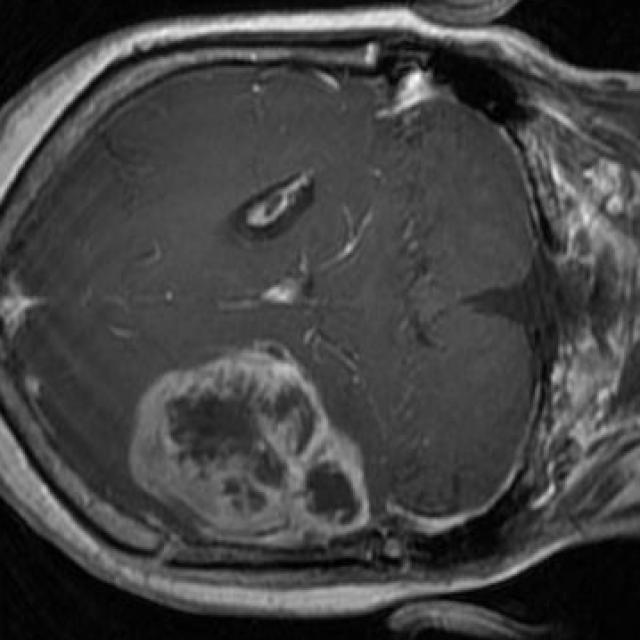glioma: (128, 341, 373, 549)
